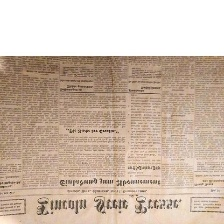news_paper: (0, 56, 224, 224)
